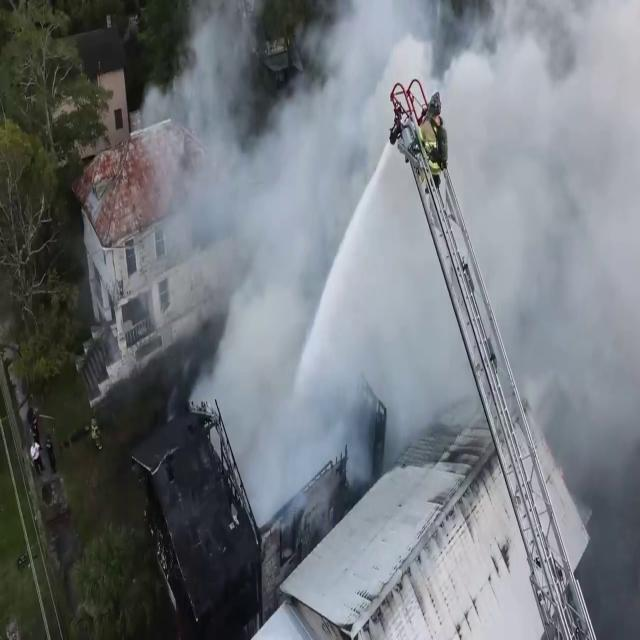Smoke: (220, 225, 355, 562)
